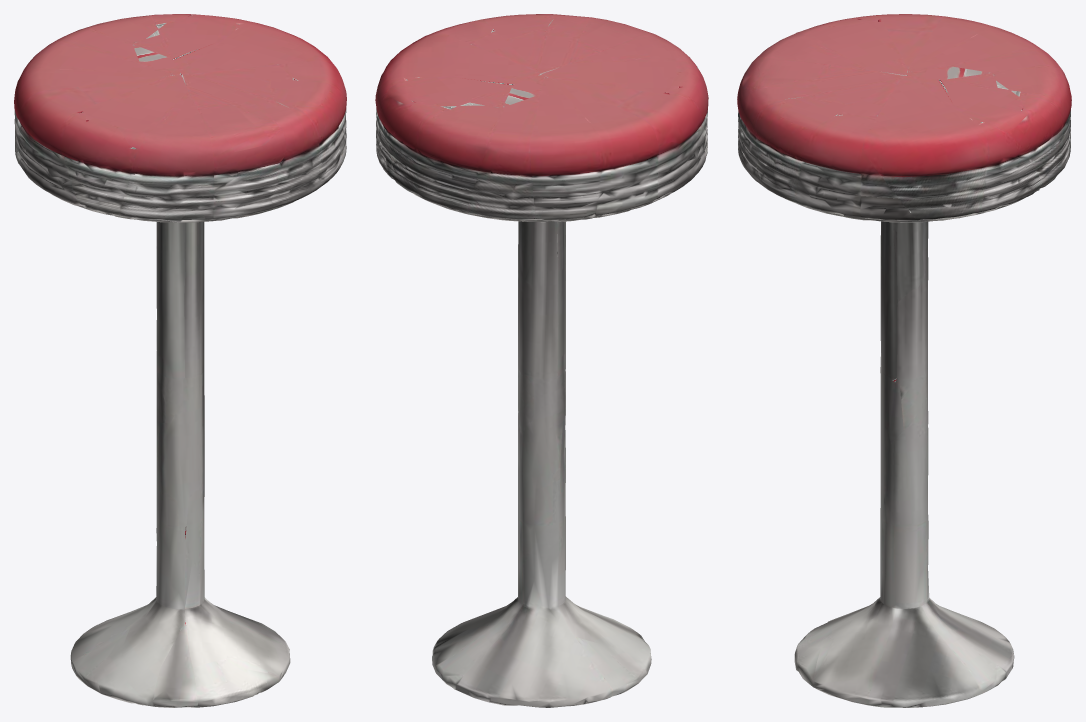
Rendered from retro_stool.glb.
3 renders of one model, left to right at view 1: azimuth 30°, elevation 25°; view 2: azimuth 150°, elevation 25°; view 3: azimuth 270°, elevation 25°, orthographic.
Parts seen in each view (by area): view 1: prop; view 2: prop; view 3: prop.
Boxes of the visible parts, x1,y1,x2,y2 form: prop: (14, 14, 346, 707); prop: (375, 14, 708, 707); prop: (737, 14, 1071, 707).
Size of the model in its own units: 0.5154 by 1 by 0.5162.
1 material, 1 textured.
